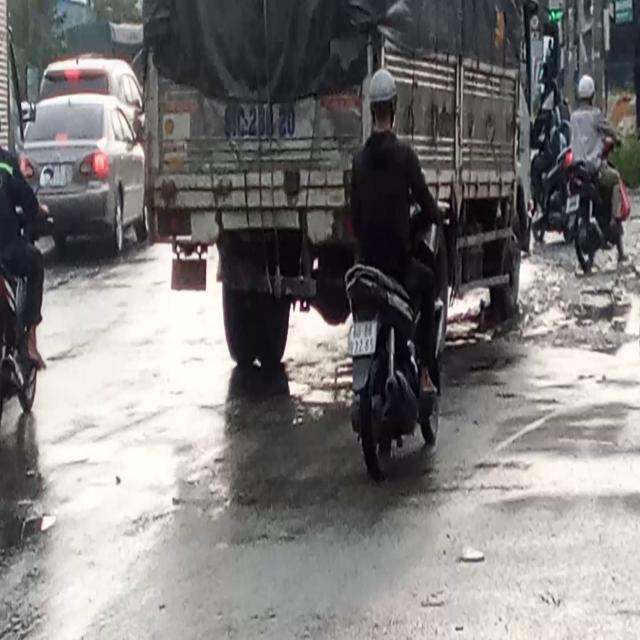bien_trang: (346, 318, 377, 358)
